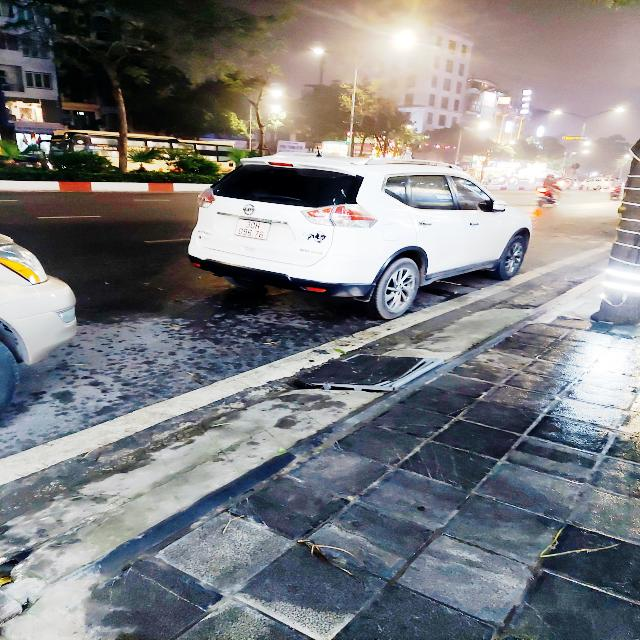license_plate: (235, 219, 273, 242)
